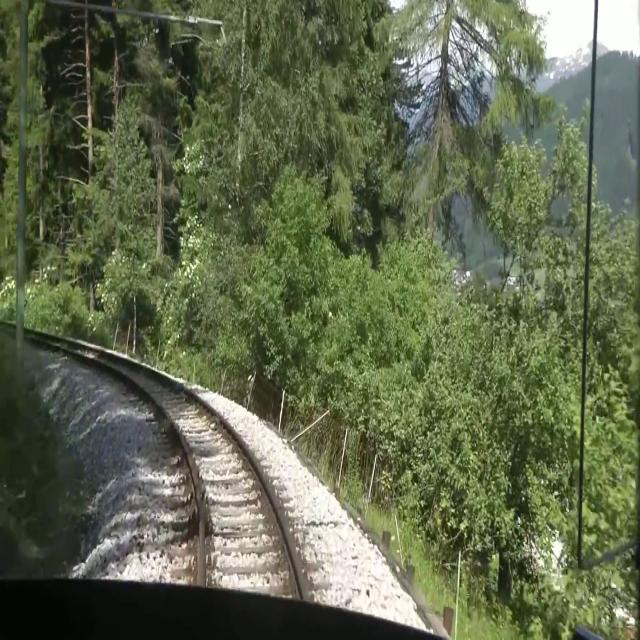rail-track: (25, 331, 311, 639), (1, 325, 16, 331)
